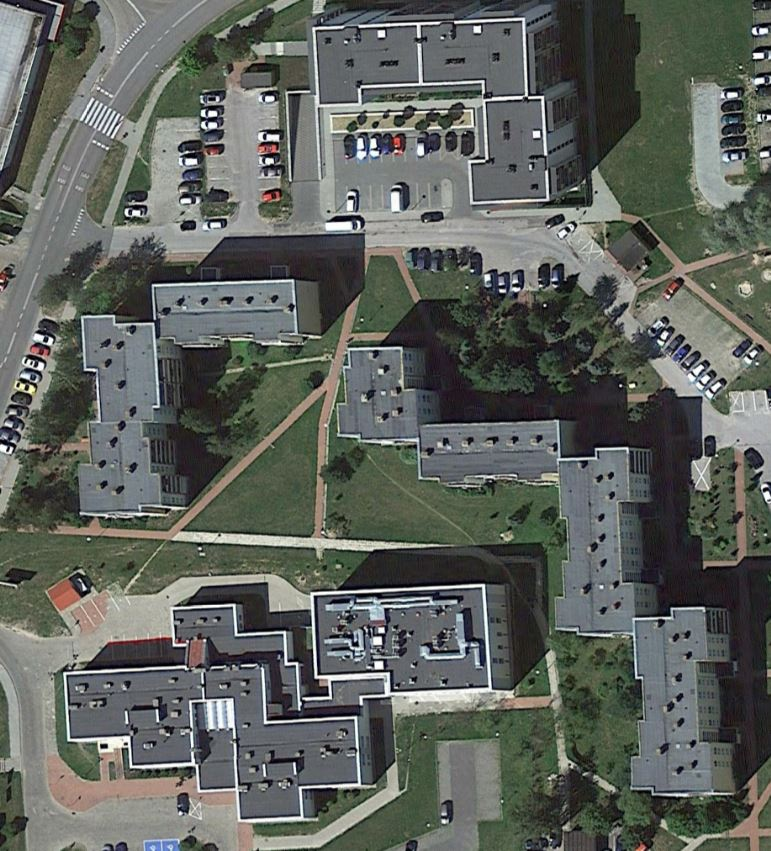block of flats: (337, 346, 757, 814), (56, 560, 524, 833), (62, 260, 330, 533), (291, 1, 612, 214)
